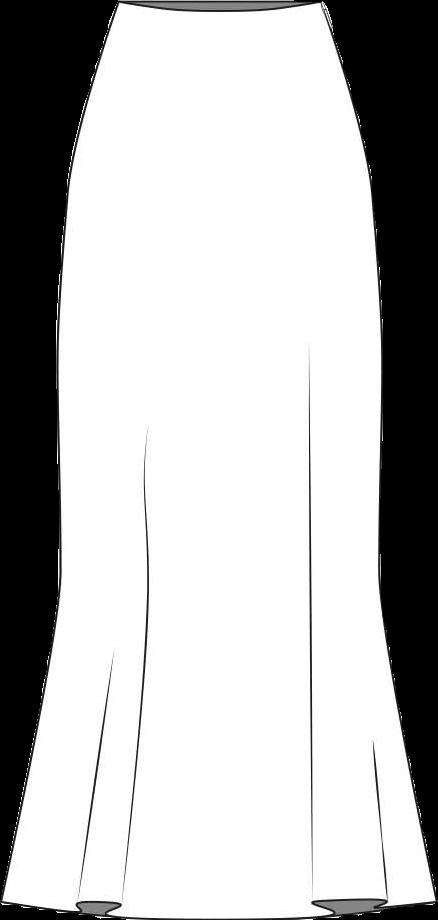Hemline: (0, 895, 437, 919)
Waistline: (117, 0, 318, 18)
